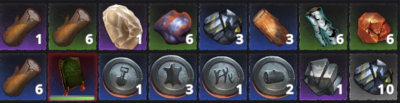birch log: (299, 3, 348, 51)
copper ore: (349, 3, 397, 50)
halite mineral: (98, 2, 146, 50)
iron ore: (149, 1, 197, 50)
oak log: (249, 2, 298, 50)
silver ore: (298, 52, 346, 99)
spruce log: (49, 1, 97, 50), (1, 1, 47, 51), (1, 54, 46, 100)
tin ore: (200, 2, 247, 51), (350, 53, 397, 101)
